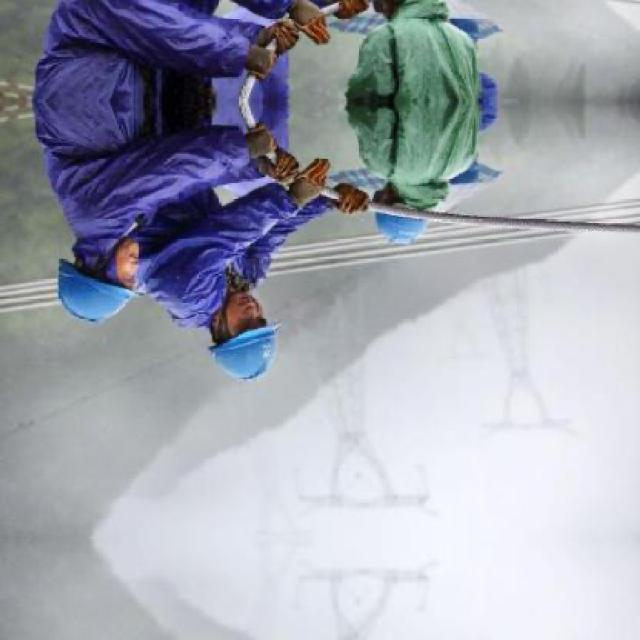con casco: (164, 311, 284, 407), (66, 241, 156, 353), (381, 190, 466, 259)
